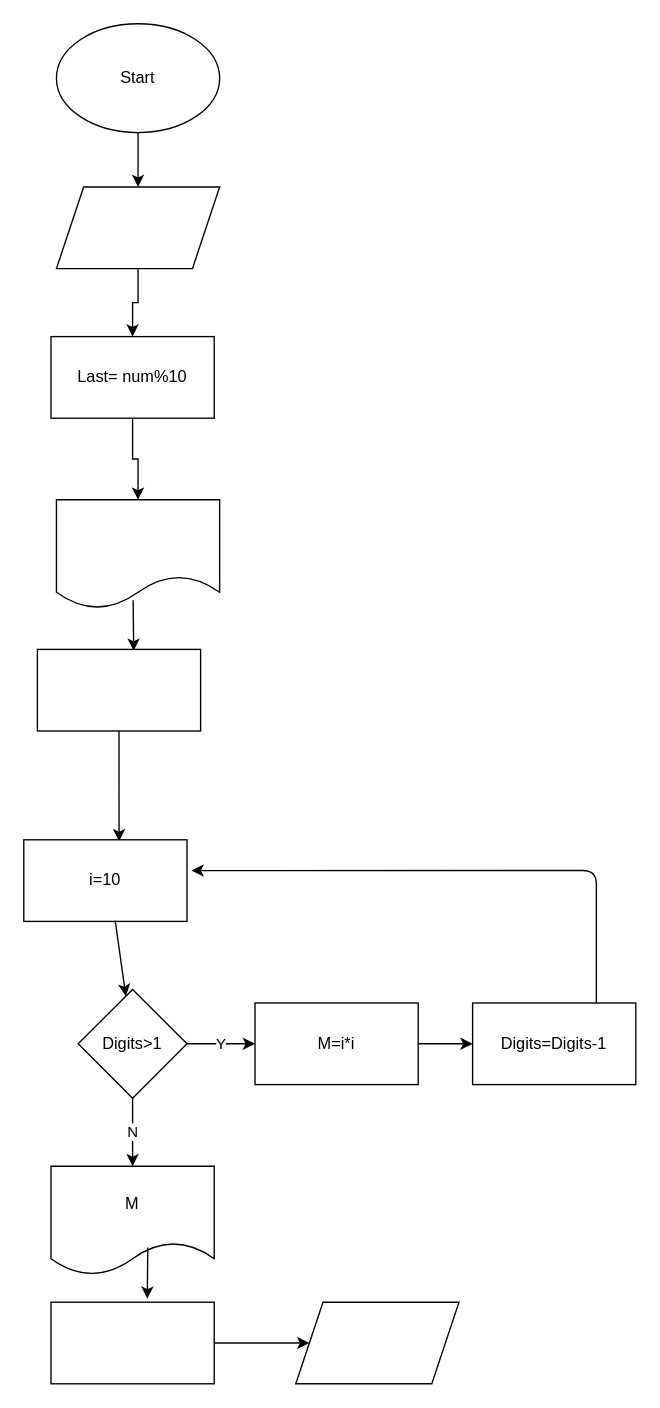
Image size: 660x1408. Some labels were removed from this diagram. The shapes that lost their labels are listed below. From the top down, each one's centre as x and y in pixels, then its label:
[137,227]: Input num
[137,553]: Last
[118,689]: Digits=log(num)
[132,1342]: "Ignore decimals" First=num/M
